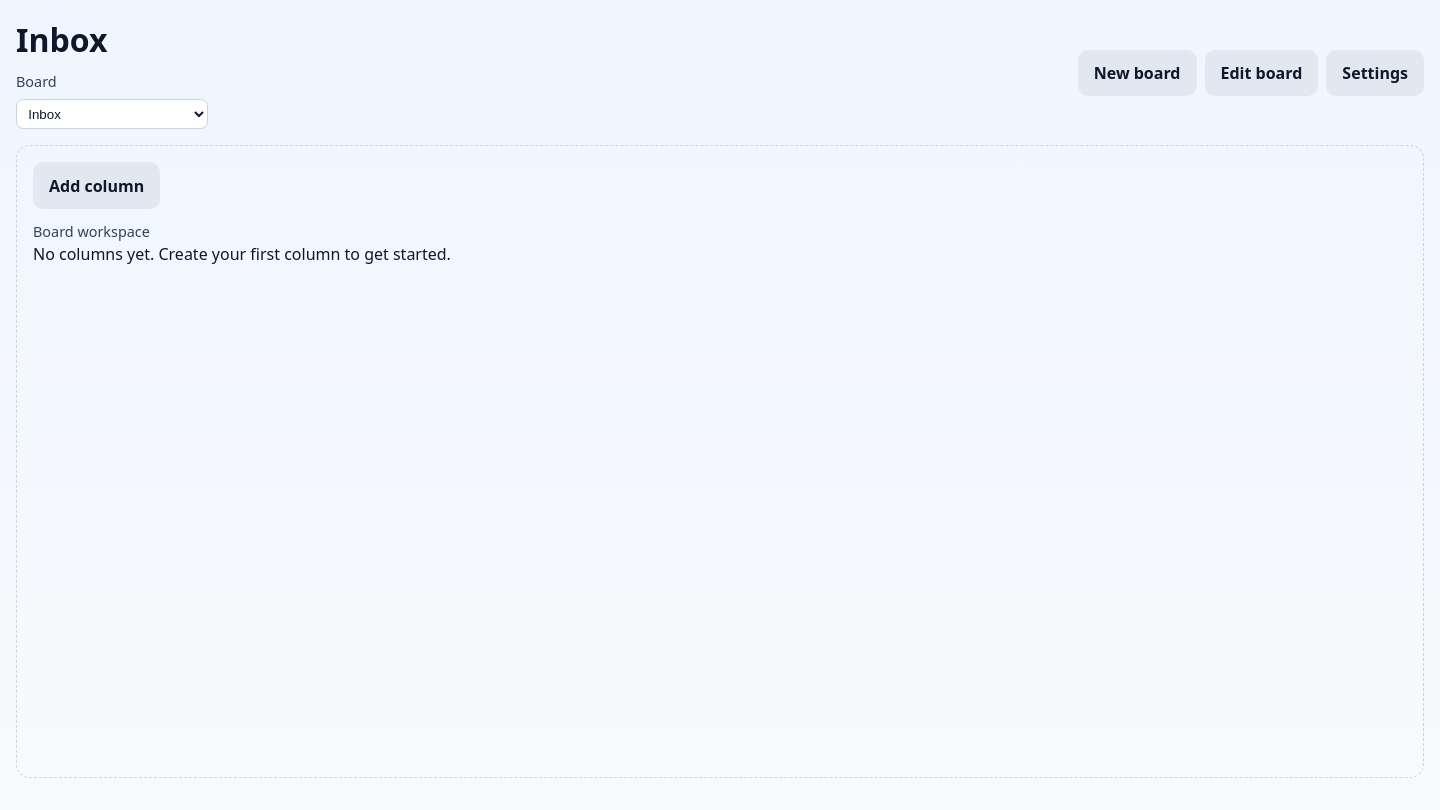
it: App › creates a board from modal and refreshes board dropdown
Expected: the button with test id "app.boards.edit.open" is enabled, 1204,50 -> 1318,96
Click the button with test id "app.boards.create.open": (1137, 73) 1078,50 -> 1196,96
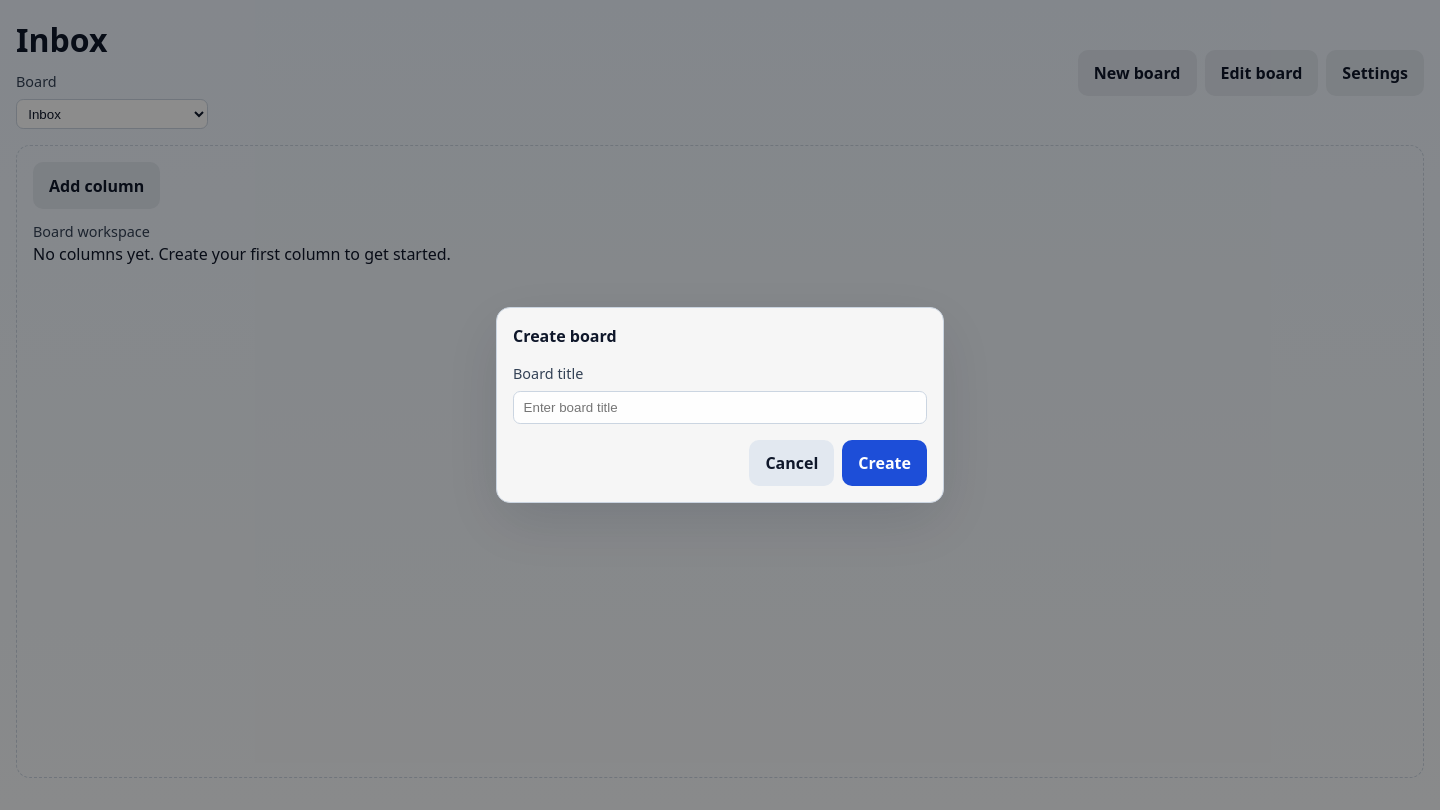
In the field with test id "app.boards.create.input": (720, 407) 513,390 -> 927,424, type "Roadmap"
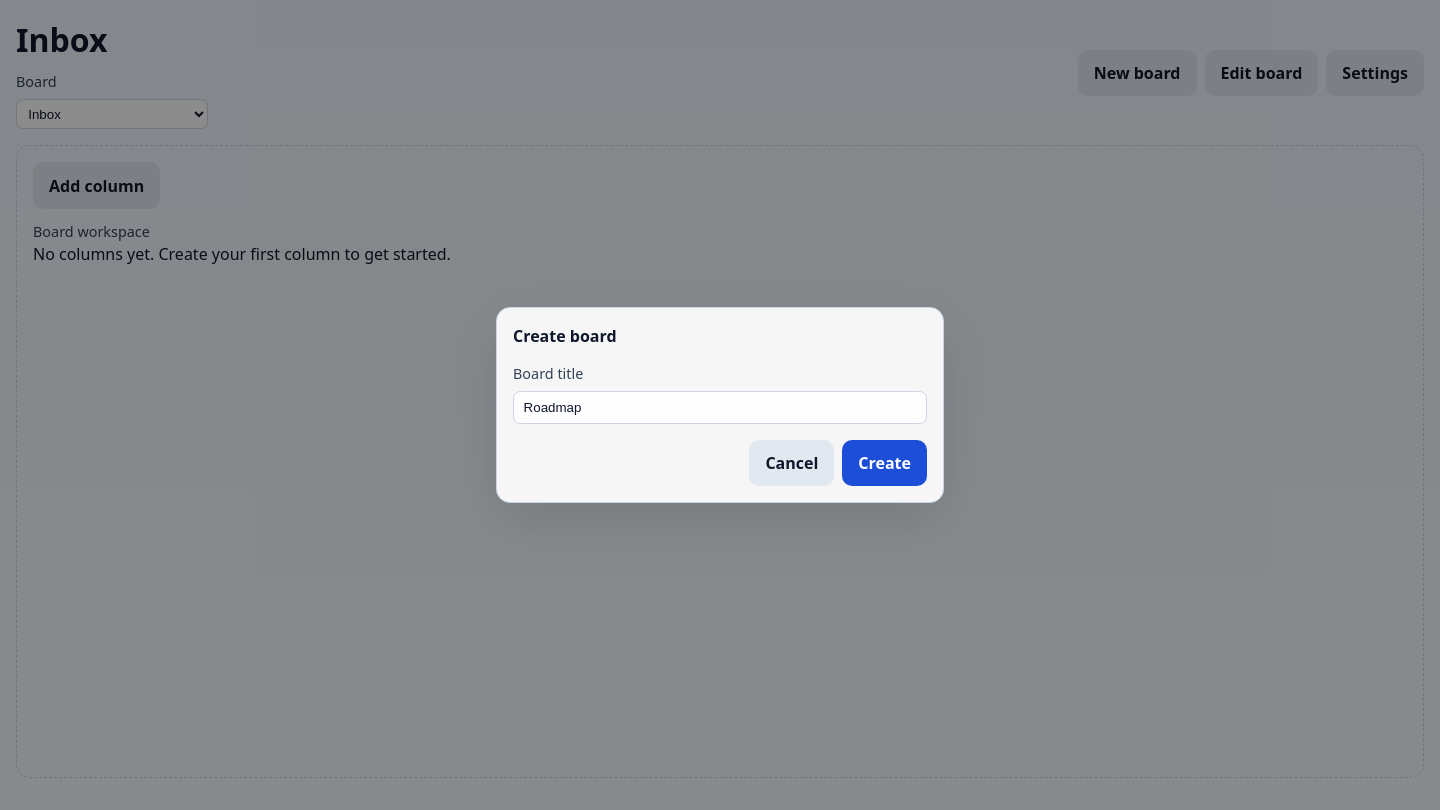
Click the button with test id "app.boards.create.submit": (885, 463) 842,440 -> 927,486
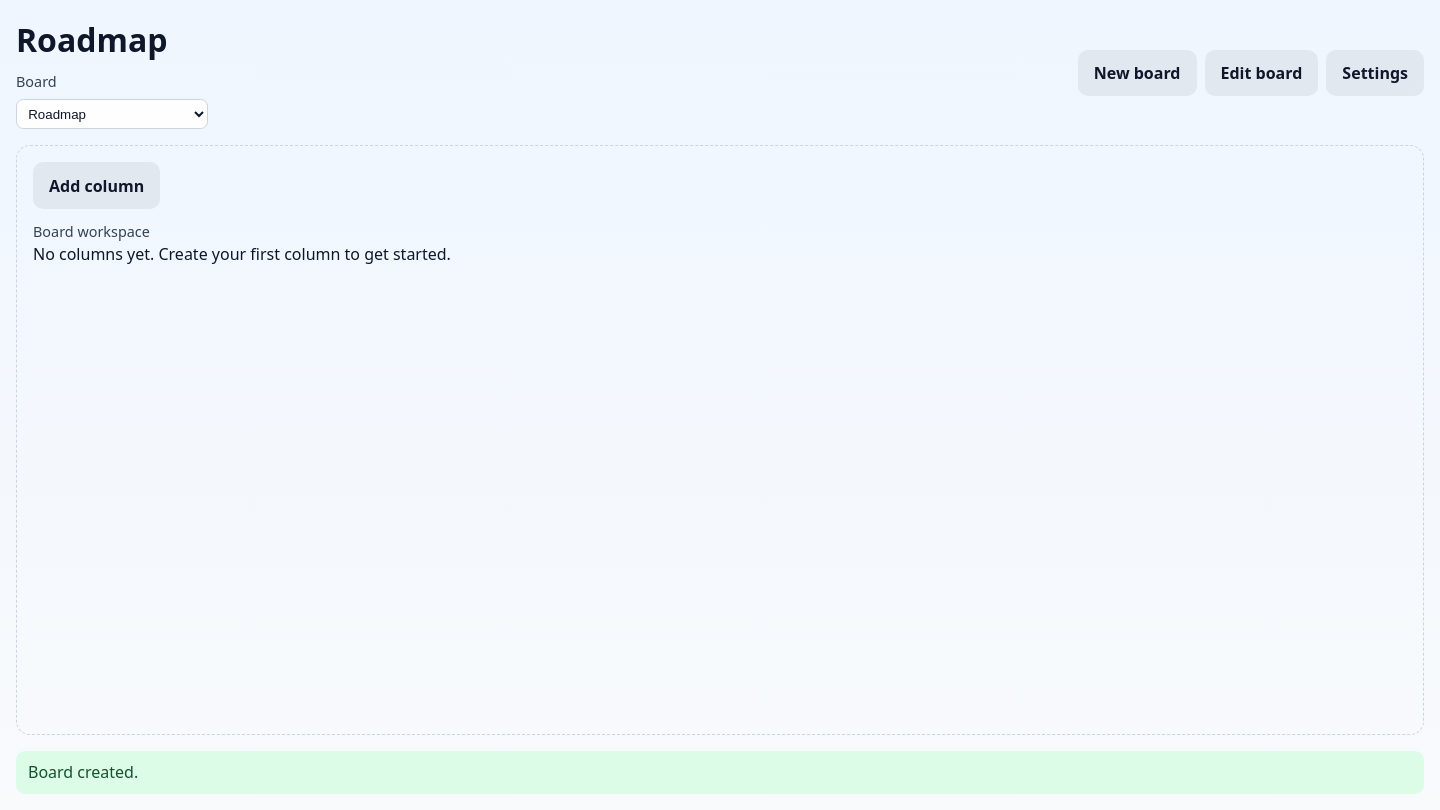
Result: the dropdown with test id "app.boards.select" shows "Roadmap" at 16,99 -> 208,129
